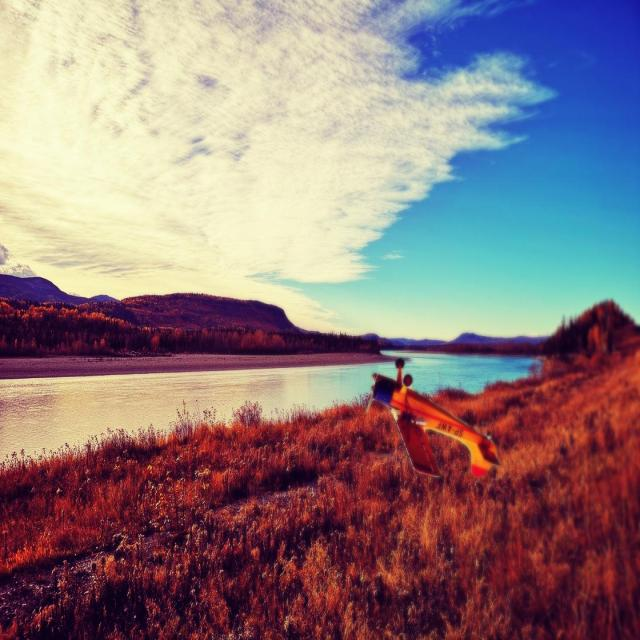airplane: (367, 357, 500, 479)
